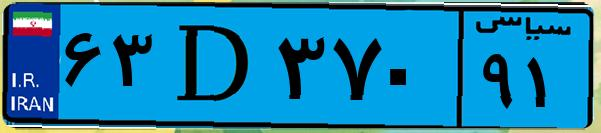0: (385, 28, 445, 110)
1: (525, 38, 570, 115)
3: (270, 28, 330, 110), (110, 28, 158, 98)
6: (57, 26, 110, 100)
7: (330, 28, 385, 110)
9: (475, 38, 525, 113)
D: (158, 12, 270, 120)
